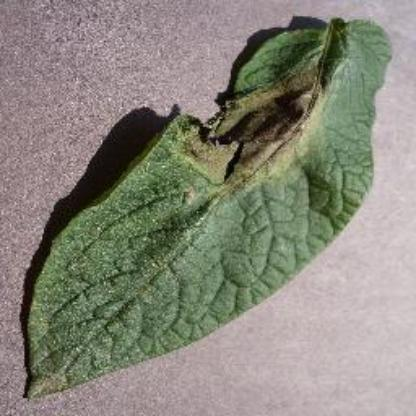Late-Blight: (13, 10, 398, 406)
